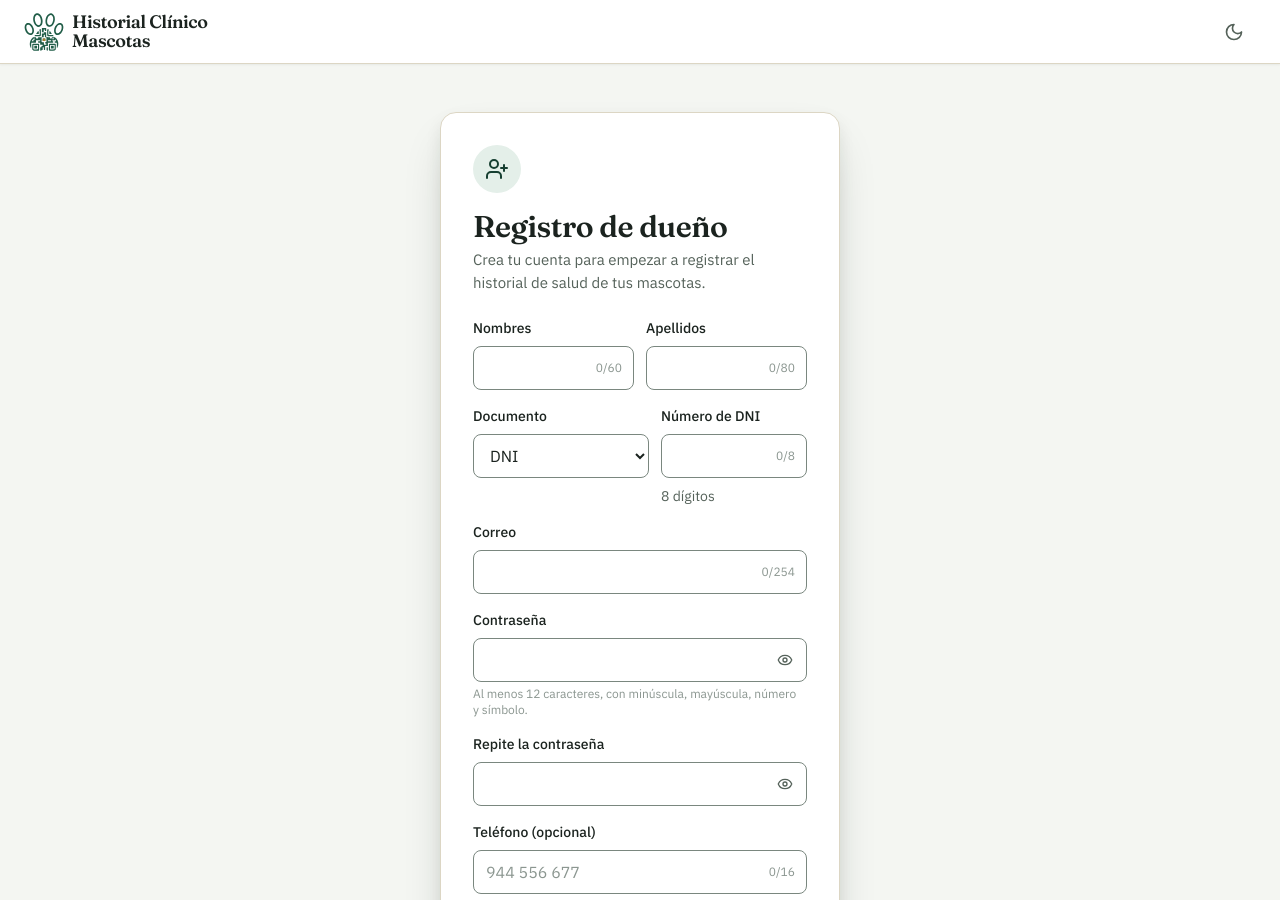
Test: PaginaRegistro: entradas con lógica real › el DNI solo admite dígitos y se corta en 8
In the field labelled "Número de DNI": (734, 456) [661,434,807,478], type "12ab34-5678 90"
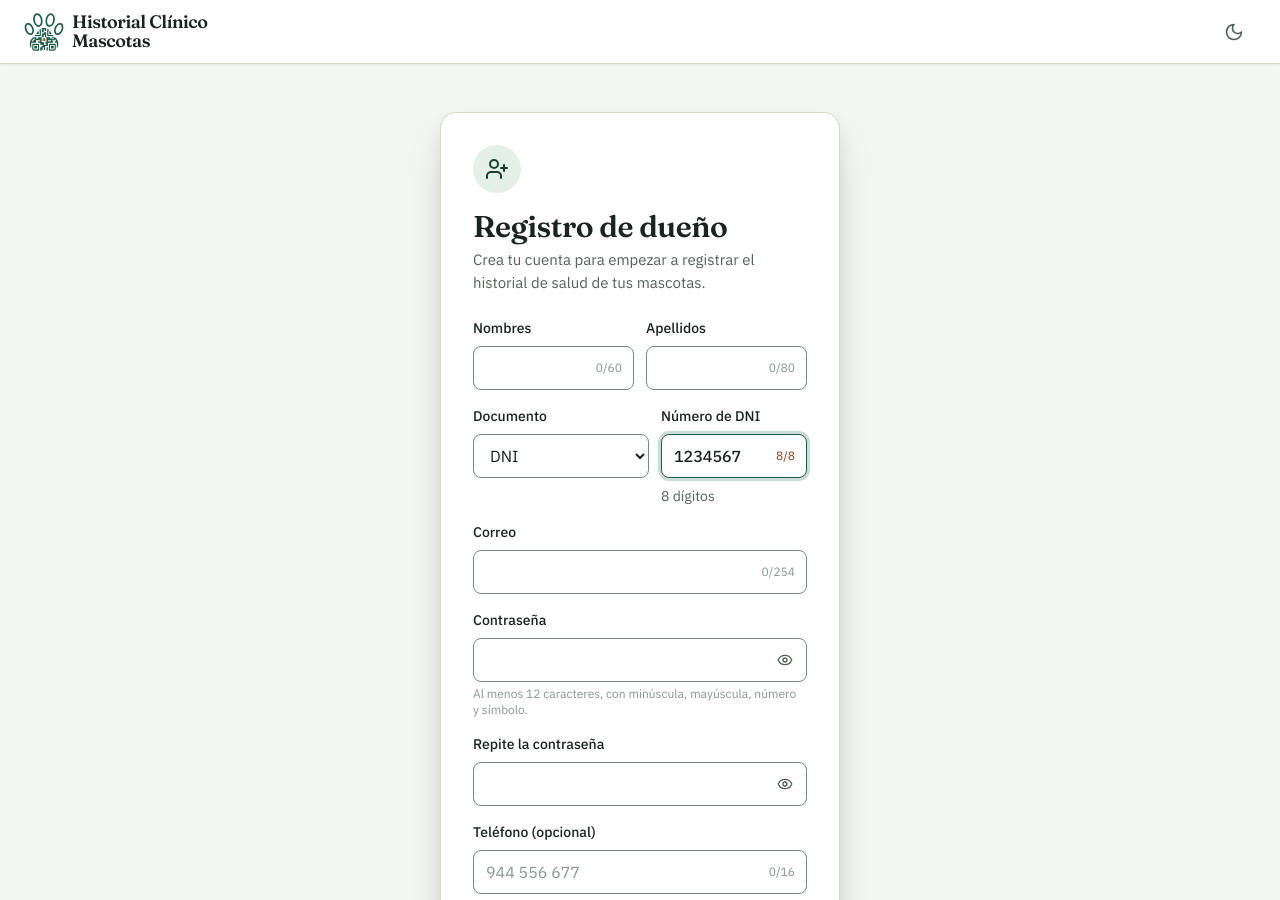
Expected: the field labelled "Número de DNI" holds "12345678", [661,434,807,478]
